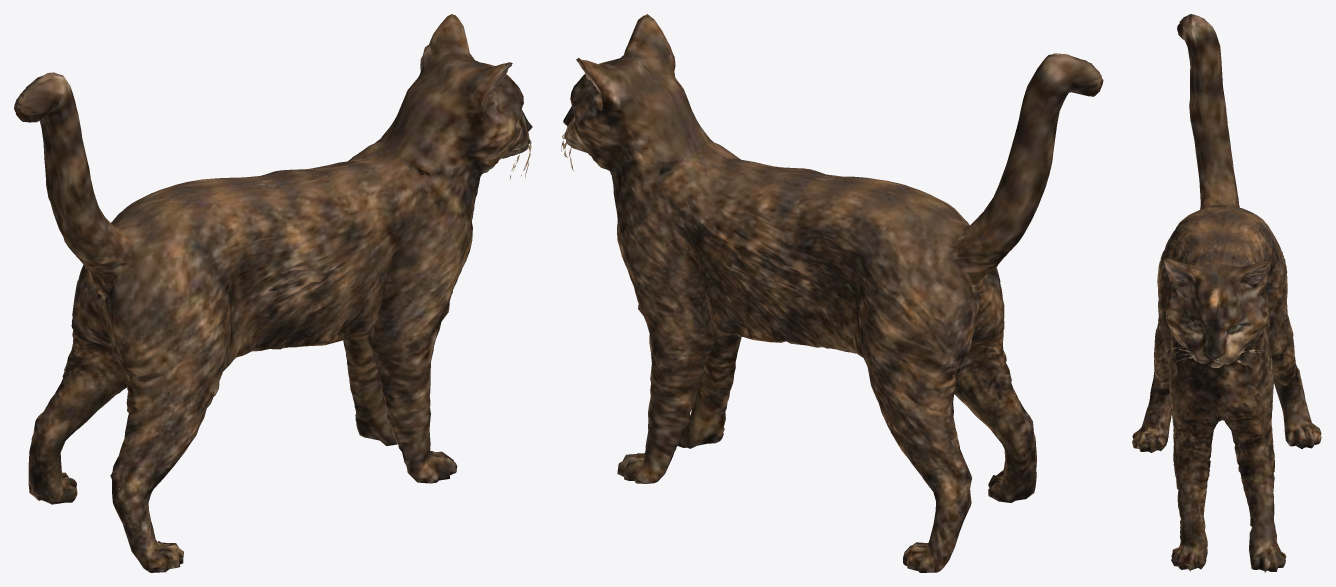
The model's file is OLDFLOSSIE-lo.glb.
3 views of the same model, side by side, from view 1: azimuth 30°, elevation 25°; view 2: azimuth 150°, elevation 25°; view 3: azimuth 270°, elevation 25° (orthographic). The views are drawn at different scales.
Visible parts, largest first — view 1: tripo_node_242e336e-32c9-49c4-9082-719708cbf465; view 2: tripo_node_242e336e-32c9-49c4-9082-719708cbf465; view 3: tripo_node_242e336e-32c9-49c4-9082-719708cbf465.
Boxes of the visible parts, <box> form: tripo_node_242e336e-32c9-49c4-9082-719708cbf465: <box>14,14,532,572</box>; tripo_node_242e336e-32c9-49c4-9082-719708cbf465: <box>561,14,1103,572</box>; tripo_node_242e336e-32c9-49c4-9082-719708cbf465: <box>1132,14,1321,572</box>.
Bounding box in the file's own units: 1.13 × 0.9975 × 0.4322.
Materials: 1 (1 with a texture image).
